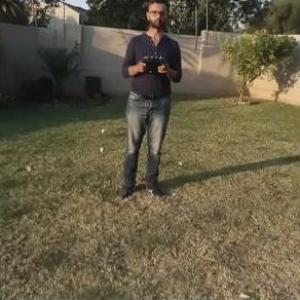follow: (111, 0, 187, 208)
